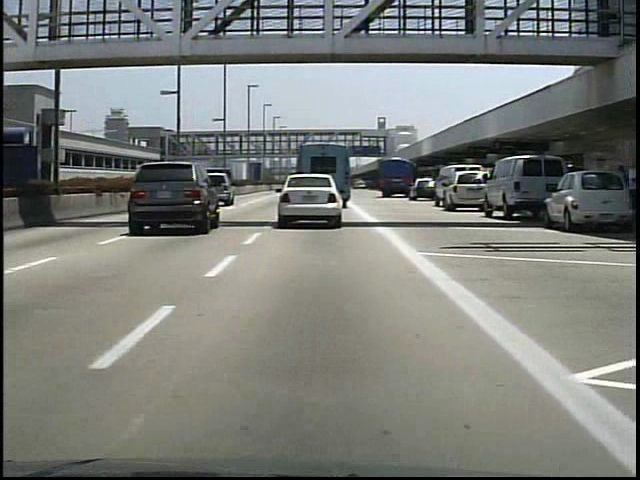person: (617, 153, 640, 230)
